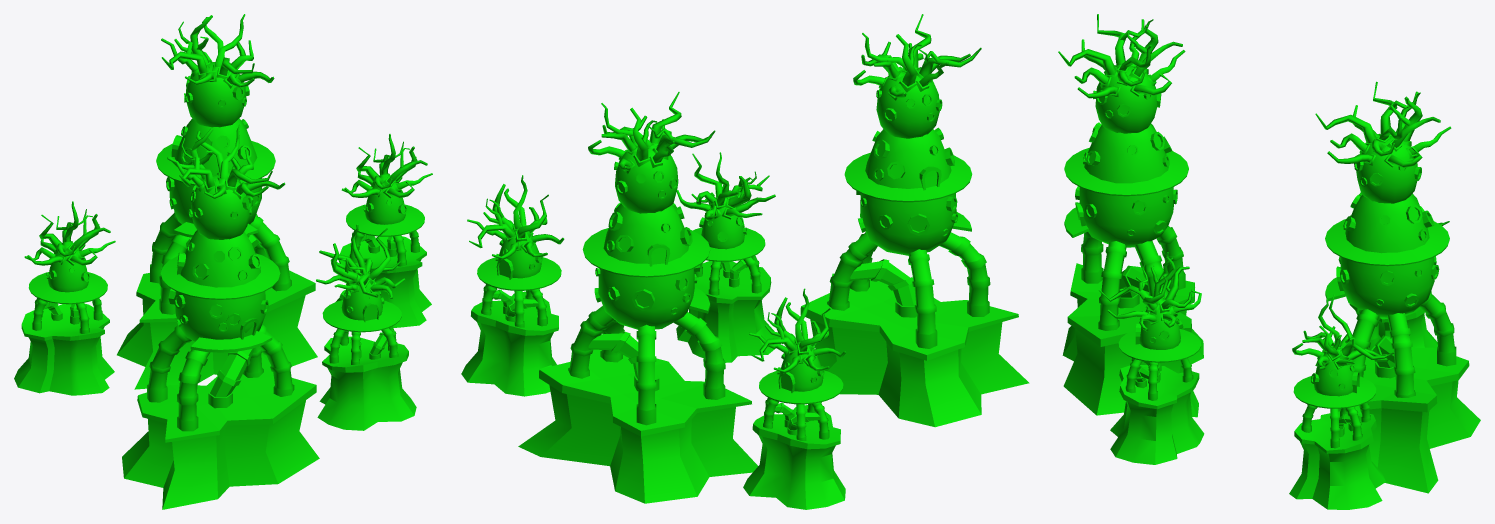
Rendered from HIVE_PLACEMENT.fbx.
3 views of the same model, side by side, from view 1: azimuth 30°, elevation 25°; view 2: azimuth 150°, elevation 25°; view 3: azimuth 270°, elevation 25° (orthographic). The views are drawn at different scales.
Parts seen in each view (by area): view 1: HIVE_B_PLACEMENT1, HIVE_B_PLACEMENT, HIVE_A_PLACEMENT, HIVE_A_PLACEMENT2, HIVE_A_PLACEMENT1; view 2: HIVE_B_PLACEMENT, HIVE_B_PLACEMENT1, HIVE_A_PLACEMENT2, HIVE_A_PLACEMENT1, HIVE_A_PLACEMENT; view 3: HIVE_B_PLACEMENT, HIVE_B_PLACEMENT1, HIVE_A_PLACEMENT, HIVE_A_PLACEMENT1, HIVE_A_PLACEMENT2.
Boxes of the visible parts, x1,y1,x2,y2 form: HIVE_B_PLACEMENT1: (122, 124, 319, 509); HIVE_B_PLACEMENT: (117, 14, 317, 389); HIVE_A_PLACEMENT: (316, 224, 416, 430); HIVE_A_PLACEMENT2: (14, 201, 115, 395); HIVE_A_PLACEMENT1: (336, 134, 432, 327); HIVE_B_PLACEMENT: (518, 92, 757, 503); HIVE_B_PLACEMENT1: (800, 14, 1029, 427); HIVE_A_PLACEMENT2: (743, 288, 845, 509); HIVE_A_PLACEMENT1: (461, 175, 564, 396); HIVE_A_PLACEMENT: (676, 152, 779, 362); HIVE_B_PLACEMENT: (1315, 81, 1480, 493); HIVE_B_PLACEMENT1: (1058, 14, 1203, 417); HIVE_A_PLACEMENT: (1099, 252, 1204, 464); HIVE_A_PLACEMENT1: (1289, 294, 1394, 509); HIVE_A_PLACEMENT2: (1349, 215, 1449, 348).
Bounding box in the file's own units: 51.59 × 42.7 × 45.9.
